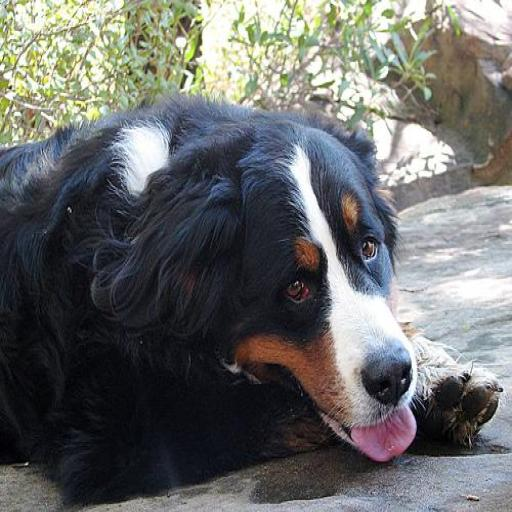dog_face: (185, 129, 428, 464)
